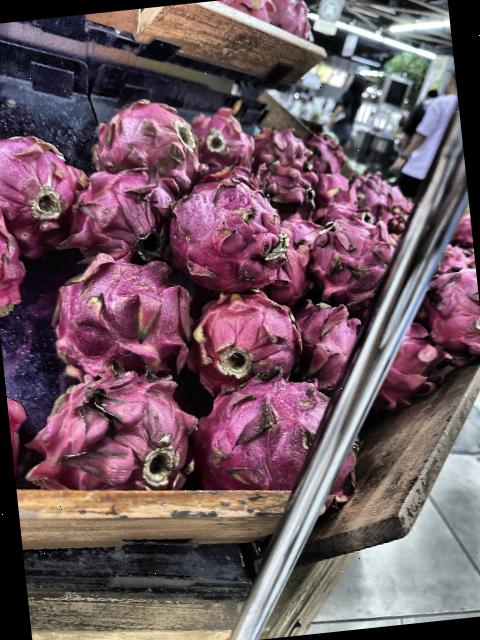buah-naga-matang: (190, 371, 364, 531), (36, 368, 202, 511), (43, 248, 198, 398), (169, 164, 287, 302), (183, 276, 299, 390), (84, 85, 203, 195), (62, 164, 180, 274), (0, 120, 86, 250), (315, 212, 404, 308), (296, 304, 363, 390), (194, 106, 258, 178), (426, 272, 480, 355)
